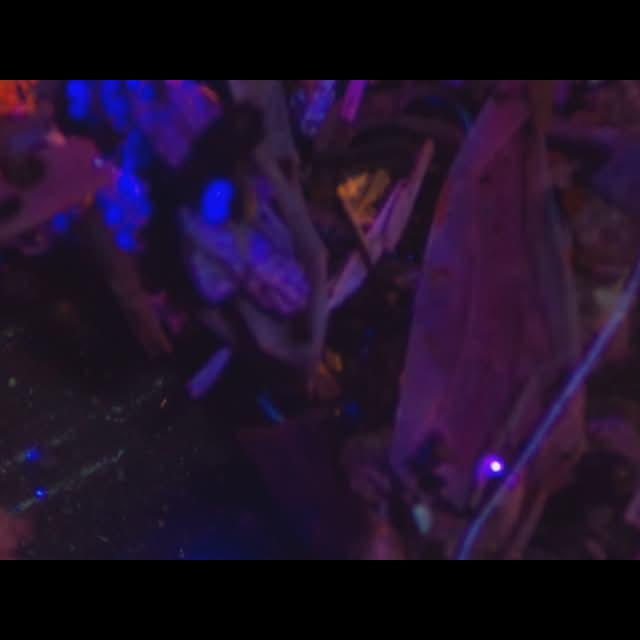microbeads: (8, 377, 16, 387)
